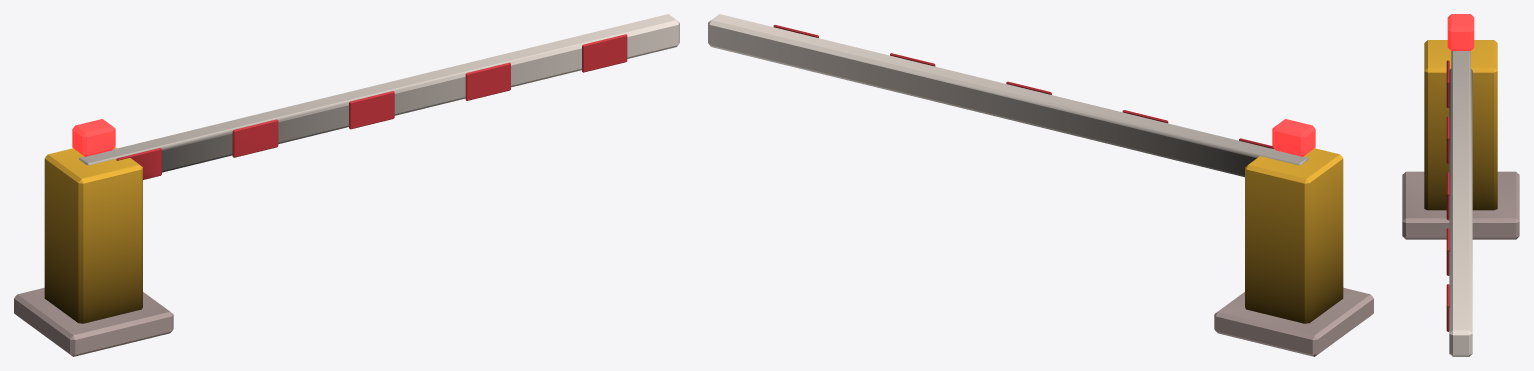
The model's file is prop.checkpoint-gate.glb.
3 renders of one model, left to right at view 1: azimuth 30°, elevation 25°; view 2: azimuth 150°, elevation 25°; view 3: azimuth 270°, elevation 25°, orthographic.
Visible parts, largest first — view 1: body, gateArm, object 1; view 2: body, gateArm, object 1; view 3: body, gateArm, object 1.
Part boxes in pixels (x1,y1,x2,y2): body: (14, 147, 173, 356); gateArm: (79, 14, 679, 179); object 1: (72, 119, 115, 156); body: (1214, 148, 1373, 356); gateArm: (708, 14, 1308, 177); object 1: (1272, 119, 1315, 156); body: (1402, 40, 1519, 239); gateArm: (1446, 51, 1472, 356); object 1: (1447, 14, 1474, 50).
Bounding box in the file's own units: 4.9 × 1.47 × 0.8.
